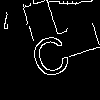C: (25, 25, 73, 80)
